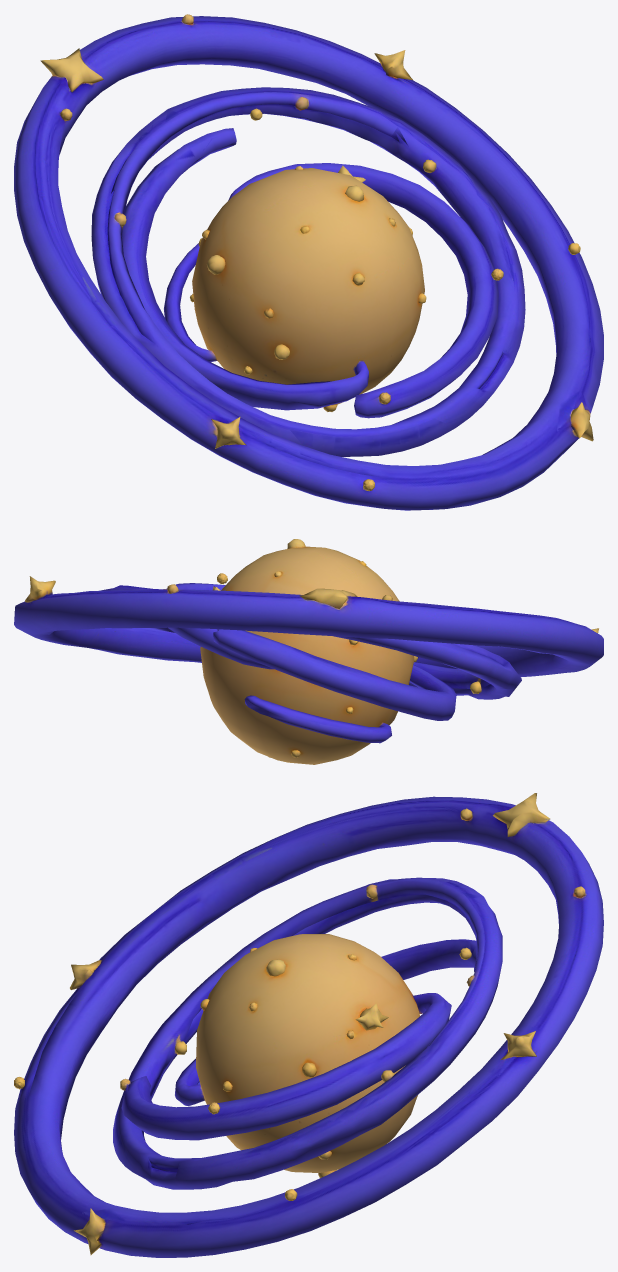
File: r33-galaxy.glb
3 renders of one model, top to bottom at view 1: azimuth 30°, elevation 25°; view 2: azimuth 150°, elevation 25°; view 3: azimuth 270°, elevation 25°, orthographic. The views are drawn at different scales.
Visible parts, largest first — view 1: tripo_node_0bd75936-e7eb-44e4-996e-2befc692c5d6; view 2: tripo_node_0bd75936-e7eb-44e4-996e-2befc692c5d6; view 3: tripo_node_0bd75936-e7eb-44e4-996e-2befc692c5d6.
Boxes of the visible parts, x1,y1,x2,y2 form: tripo_node_0bd75936-e7eb-44e4-996e-2befc692c5d6: [14, 14, 603, 510]; tripo_node_0bd75936-e7eb-44e4-996e-2befc692c5d6: [14, 539, 603, 764]; tripo_node_0bd75936-e7eb-44e4-996e-2befc692c5d6: [14, 793, 603, 1257].
Bounding box in the file's own units: 0.998 × 0.5488 × 0.9316.
Materials: 1 (1 with a texture image).
